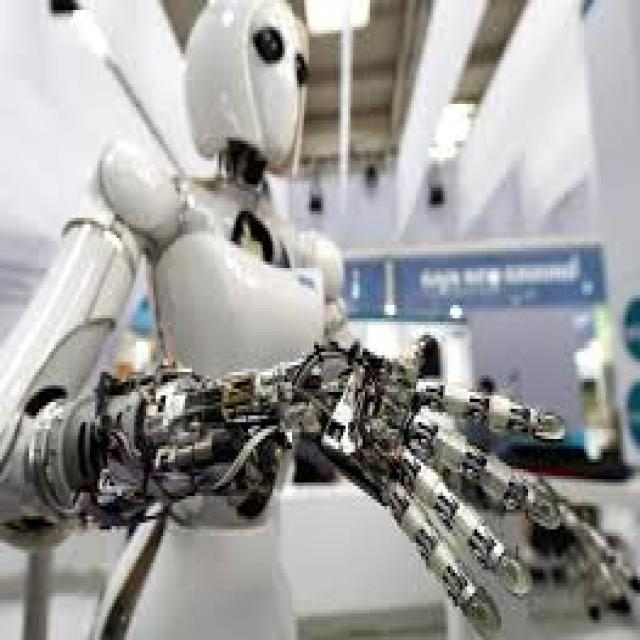humanoid-arm: (42, 328, 608, 592)
